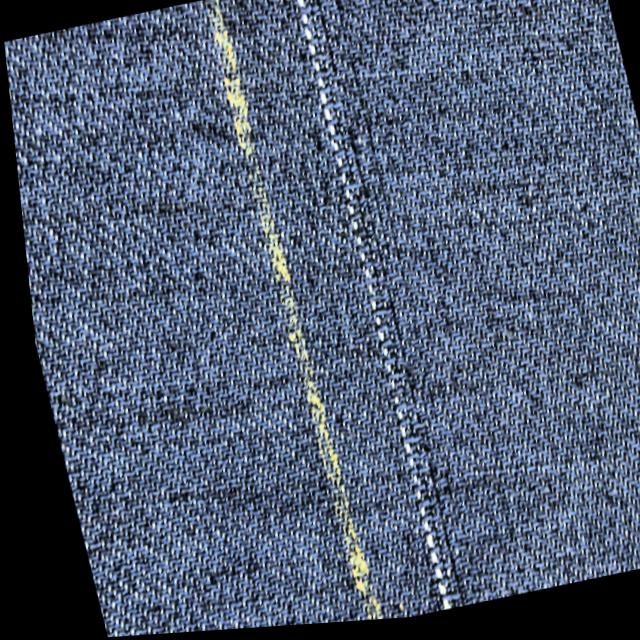Hole: (359, 311, 391, 384), (339, 222, 369, 282), (300, 46, 331, 101), (379, 396, 406, 458), (320, 118, 344, 177), (407, 526, 430, 567), (288, 0, 310, 24), (398, 478, 415, 508), (424, 586, 440, 615)
